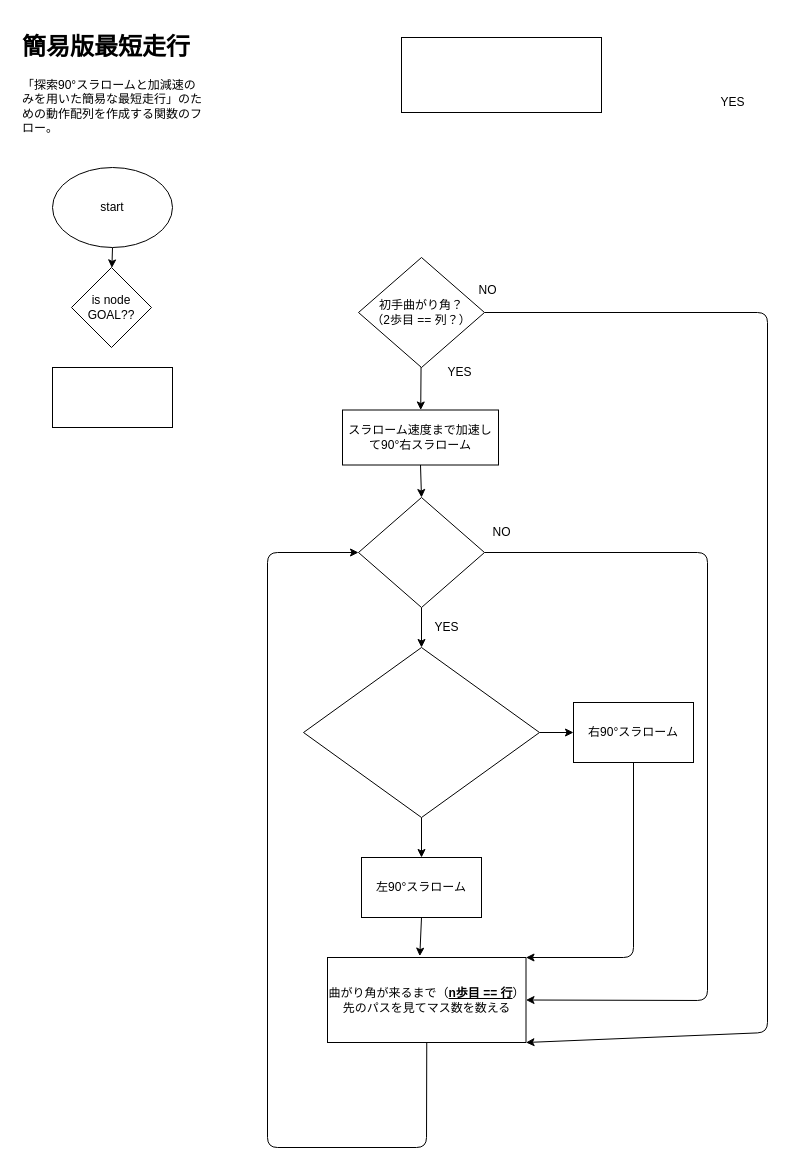
Image size: 793x1173. Some labels were removed from this diagram. The shapes that lost their labels are listed below. From the top down, each one's box as (x1, y1, x2, y2) in pixels, then its label:
(400, 36, 602, 112): 曲がり角が来るまで（ n歩目 == 列 ） 先のパスを見てマス数を数える
(52, 366, 172, 428): 減速
(358, 496, 484, 608): 曲がり角？ （3歩目 == 行？）
(302, 646, 540, 818): 前ノードと次ノードののxyの傾き ==
